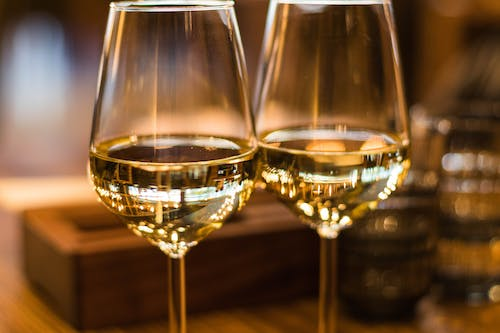alcohol: (87, 0, 261, 333), (253, 0, 413, 333)
